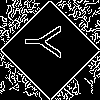Y: (25, 25, 71, 58)
